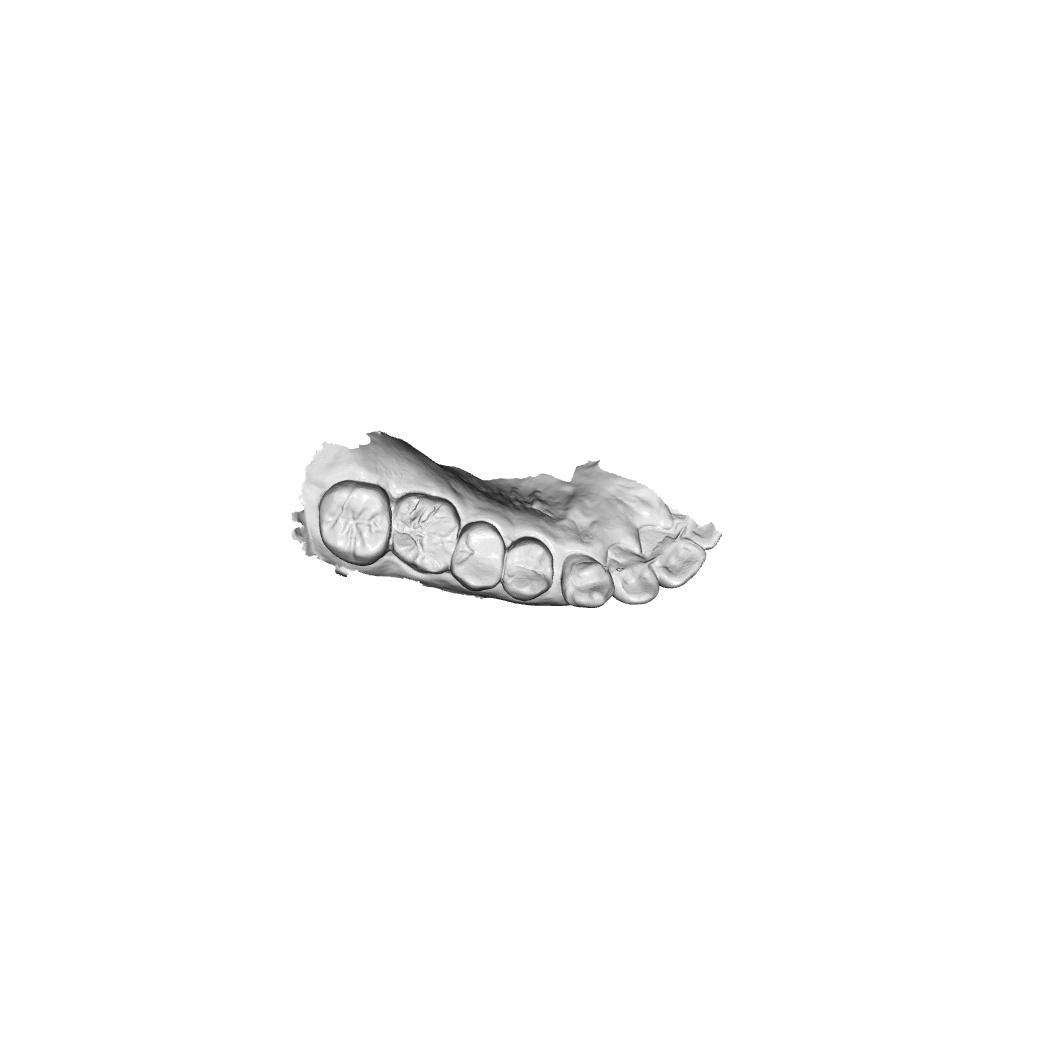canine: (560, 551, 616, 609)
incisor: (643, 527, 708, 590), (608, 547, 661, 606)
molar: (317, 478, 393, 568), (391, 491, 462, 576)
premolar: (449, 520, 506, 593), (501, 536, 554, 601)
